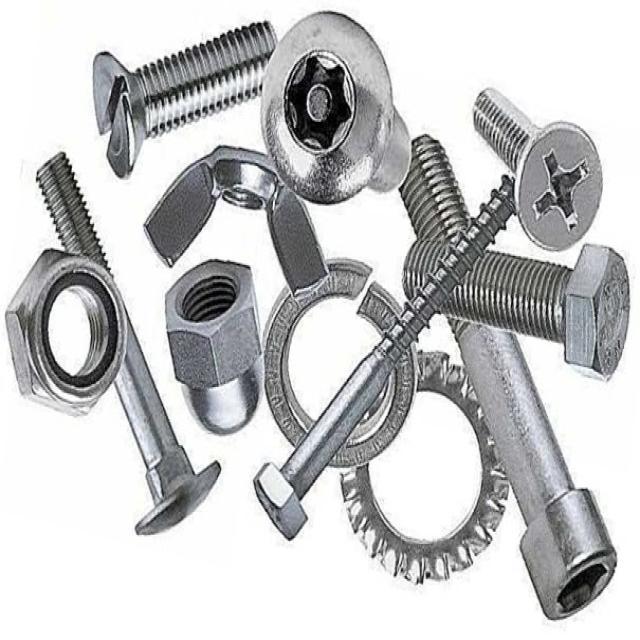Logam: (365, 126, 612, 613), (34, 142, 220, 529), (413, 108, 631, 411), (257, 251, 414, 494), (261, 5, 405, 228), (63, 22, 288, 154), (460, 67, 608, 262), (11, 233, 119, 427), (169, 239, 256, 456)
